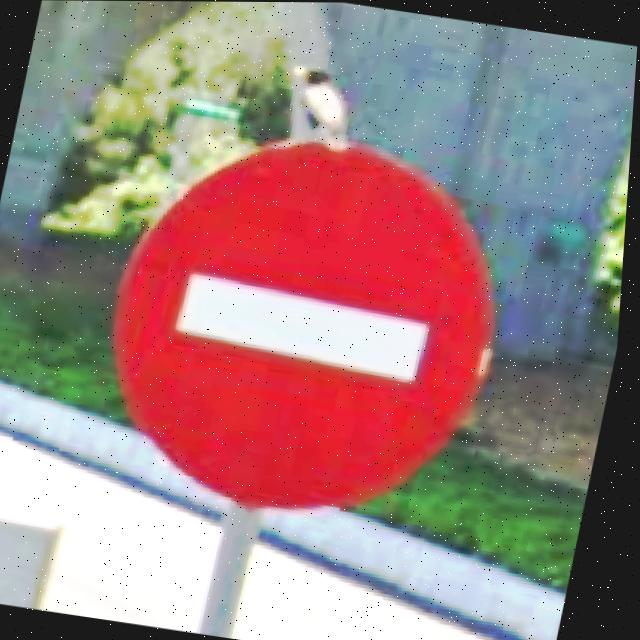noentry: (77, 109, 538, 541)
